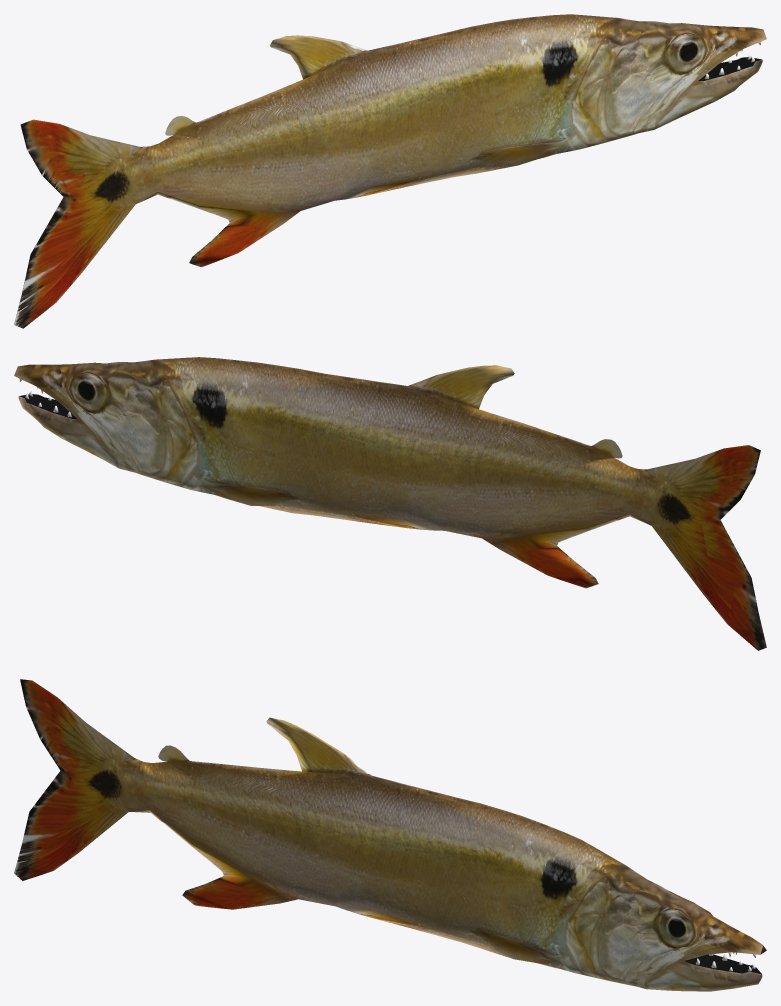
Rendered from dientudo_animacion.glb.
3 views of the same model, one above another, from view 1: azimuth 30°, elevation 25°; view 2: azimuth 150°, elevation 25°; view 3: azimuth 330°, elevation 25° (orthographic).
Parts seen in each view (by area): view 1: DIENTUDO; view 2: DIENTUDO; view 3: DIENTUDO.
Part boxes in pixels (left/top/right/bottom): DIENTUDO: left=14, top=14, right=766, bottom=328; DIENTUDO: left=14, top=357, right=766, bottom=650; DIENTUDO: left=14, top=679, right=766, bottom=991.
Bounding box in the file's own units: 0.3879 × 0.1112 × 0.0213.
3 materials, 1 textured.
